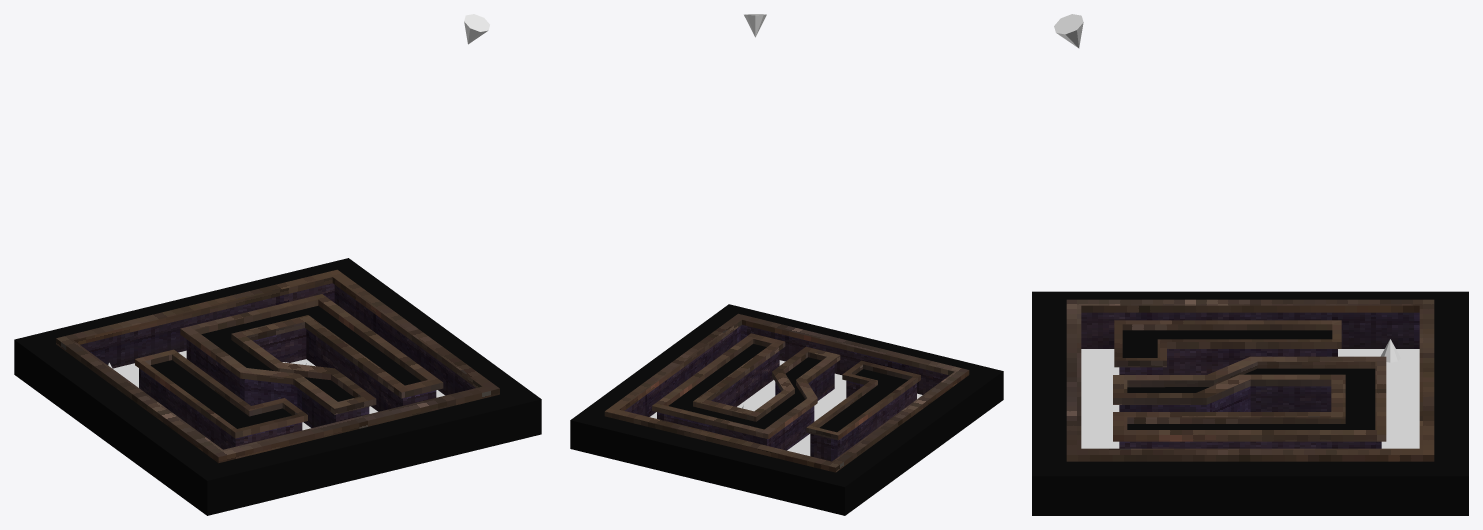
File: demo-basic.ed8ca940.glb
3 renders of one model, left to right at view 1: azimuth 30°, elevation 25°; view 2: azimuth 150°, elevation 25°; view 3: azimuth 270°, elevation 25°, orthographic. The views are drawn at different scales.
Parts seen in each view (by area): view 1: Plane, Plane.003, Plane.002; view 2: Plane, Plane.003, Plane.002, Plane.004, Plane.005; view 3: Plane, Plane.003, Plane.002, Plane.004, Plane.005, Cone.001.
Boxes of the visible parts, x1,y1,x2,y2 form: Plane: (14, 258, 541, 515); Plane.003: (56, 269, 499, 463); Plane.002: (80, 283, 475, 449); Plane: (570, 304, 1003, 515); Plane.003: (604, 313, 969, 472); Plane.002: (624, 325, 949, 461); Plane.004: (650, 360, 922, 455); Plane.005: (746, 365, 917, 454); Plane: (1032, 291, 1468, 515); Plane.003: (1066, 299, 1434, 461); Plane.002: (1081, 312, 1419, 448); Plane.004: (1081, 349, 1419, 448); Plane.005: (1091, 354, 1409, 448); Cone.001: (1054, 14, 1083, 48).
Size of the model in its own units: 10 by 11.91 by 10.
Materials: 4 (3 with a texture image).
